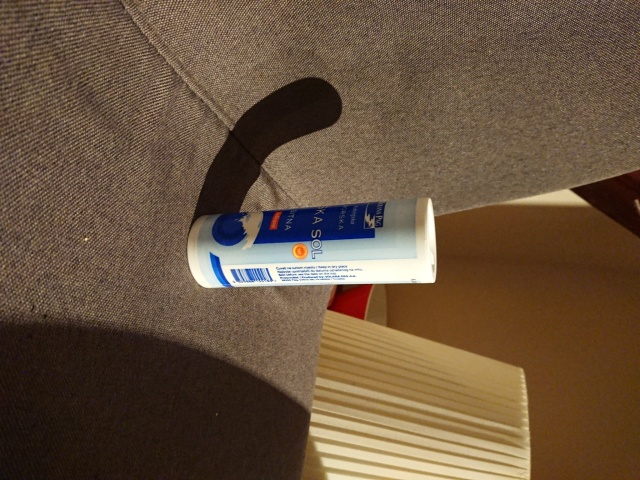Solana Pag Fine Sea Salt 250g: (183, 193, 440, 292)
